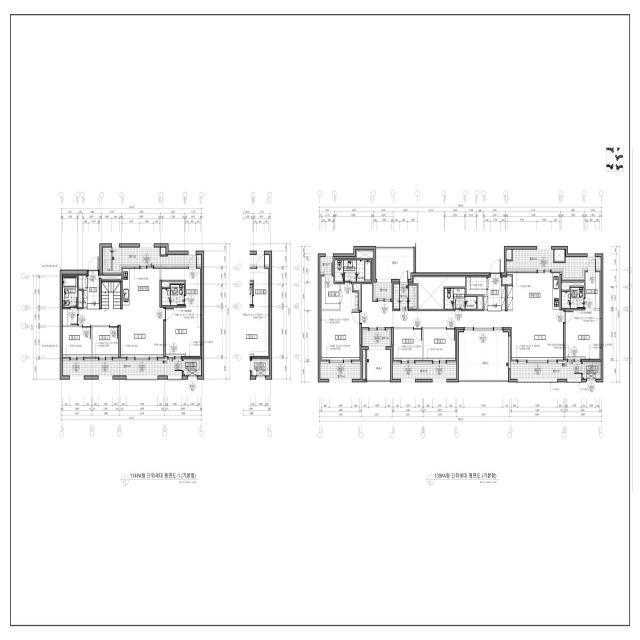space_balconi: (506, 250, 601, 278), (103, 247, 201, 271), (459, 332, 508, 379), (63, 359, 183, 376), (376, 249, 414, 279), (510, 363, 581, 379), (393, 364, 456, 379), (367, 350, 390, 379), (394, 282, 417, 309), (320, 364, 361, 379), (364, 331, 389, 346), (375, 282, 393, 298), (320, 257, 334, 274)
space_bedroom: (320, 284, 361, 362), (565, 310, 601, 361), (166, 307, 201, 358), (424, 329, 456, 362), (392, 329, 423, 362), (63, 327, 91, 359), (93, 327, 118, 359)
space_dressroom: (161, 266, 201, 307), (320, 274, 340, 309), (584, 270, 601, 310)
space_front: (484, 274, 505, 311), (83, 271, 100, 309)
space_kitchen: (506, 271, 560, 310), (121, 267, 160, 308)
space_living_room: (362, 284, 563, 362), (79, 307, 164, 359)
space_other: (413, 276, 465, 309), (101, 282, 121, 309), (466, 276, 487, 295), (63, 309, 78, 325), (356, 249, 374, 259), (562, 282, 584, 290), (353, 284, 360, 309), (162, 282, 184, 287), (101, 275, 121, 280), (555, 250, 564, 261), (79, 275, 86, 289), (363, 350, 366, 380), (502, 276, 512, 284), (478, 296, 483, 309), (79, 291, 82, 307), (507, 251, 512, 259), (161, 247, 166, 255)
space_outdoor_room: (583, 362, 601, 379), (183, 359, 201, 375)
space_toilet: (335, 260, 371, 282), (445, 289, 476, 309), (562, 288, 584, 308), (162, 285, 184, 305), (63, 277, 77, 307)
